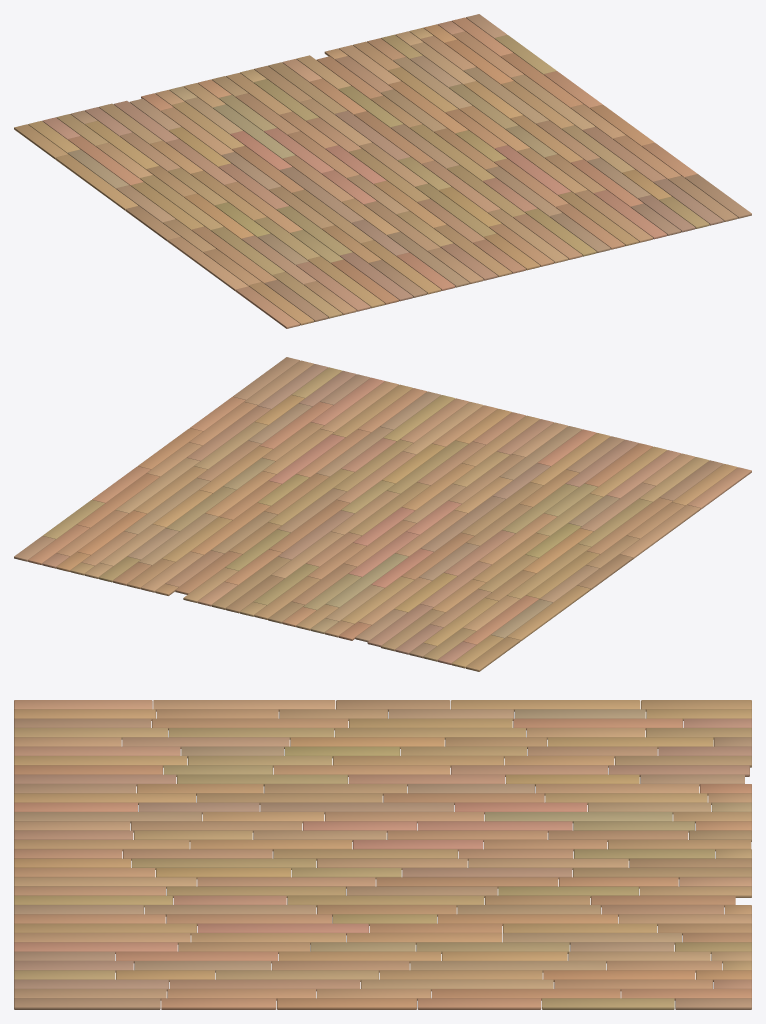
Rendered from W6_Floor.fbx.
3 renders of one model, top to bottom at view 1: azimuth 30°, elevation 25°; view 2: azimuth 150°, elevation 25°; view 3: azimuth 270°, elevation 25°, orthographic. The views are drawn at different scales.
Visible parts, largest first — view 1: W6_Floor; view 2: W6_Floor; view 3: W6_Floor.
Boxes of the visible parts, <box> form: W6_Floor: <box>14,14,751,328</box>; W6_Floor: <box>14,357,751,671</box>; W6_Floor: <box>14,700,751,1009</box>.
Bounding box in the file's own units: 6.59 × 0.03 × 6.69.
